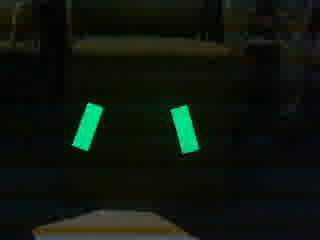target: (71, 101, 202, 155)
